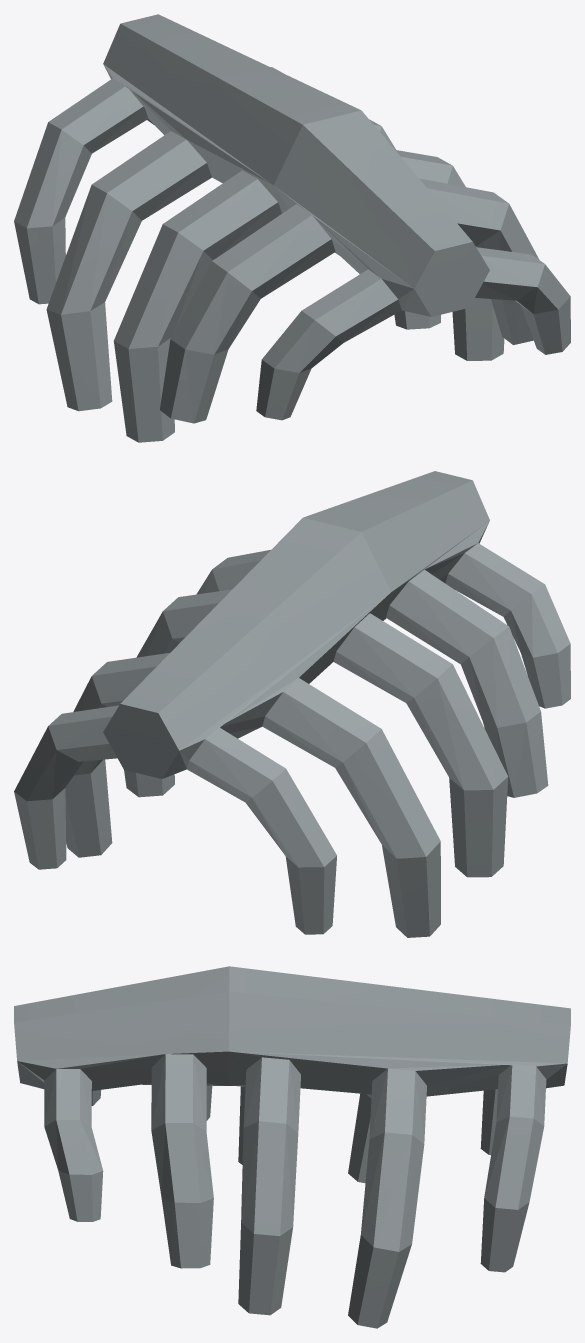
File: bones2.fbx
3 renders of one model, top to bottom at view 1: azimuth 30°, elevation 25°; view 2: azimuth 150°, elevation 25°; view 3: azimuth 270°, elevation 25°, orthographic. The views are drawn at different scales.
Parts seen in each view (by area): view 1: Prop_Bones_Beast_Ribs_04; view 2: Prop_Bones_Beast_Ribs_04; view 3: Prop_Bones_Beast_Ribs_04.
Part boxes in pixels (x1,y1,x2,y2): Prop_Bones_Beast_Ribs_04: (14,14,570,442); Prop_Bones_Beast_Ribs_04: (14,471,570,937); Prop_Bones_Beast_Ribs_04: (14,966,570,1328).
Size of the model in its own units: 170 by 132 by 245.
1 material, 1 textured.
